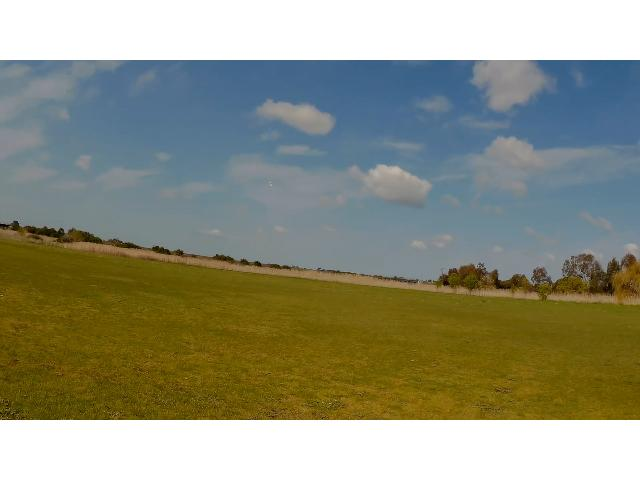Anti-Drone: (260, 176, 284, 194)
